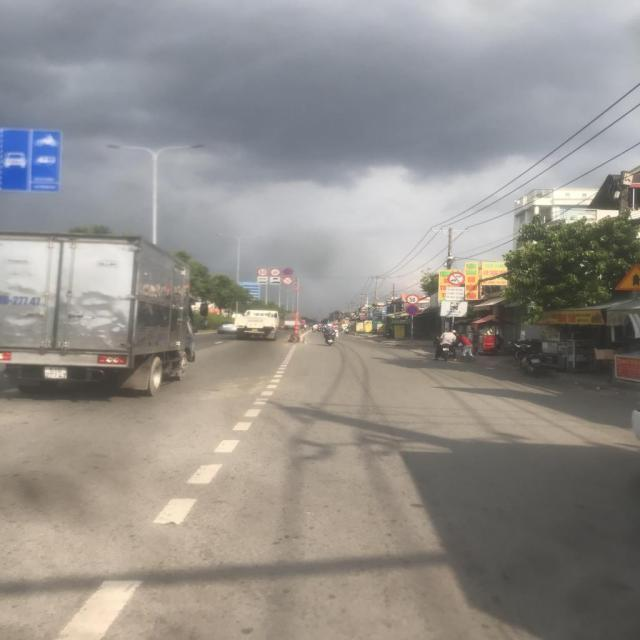107-cam-oto-khach-va-oto-tai: (446, 272, 466, 286)
127-toc-do-toi-da-50: (405, 294, 419, 304)
207-giao-nhau-voi-duong-khong-uu-tien: (612, 264, 640, 292)
